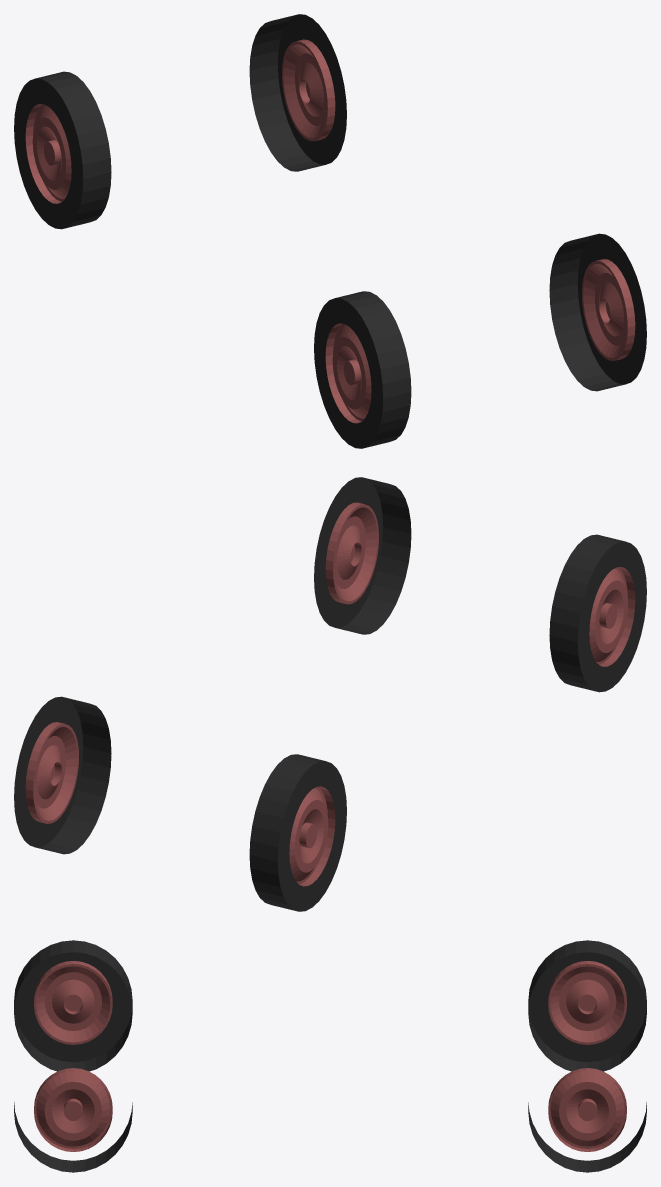
The model's file is bus-wheels-ts7.dae.
3 views of the same model, one above another, from view 1: azimuth 30°, elevation 25°; view 2: azimuth 150°, elevation 25°; view 3: azimuth 270°, elevation 25° (orthographic). The views are drawn at different scales.
Parts seen in each view (by area): view 1: Circle, Circle_004; view 2: Circle, Circle_004; view 3: Circle, Circle_004.
Part boxes in pixels (x1,y1,x2,y2): Circle: (314,233,646,448); Circle_004: (14,14,346,229); Circle: (314,477,646,692); Circle_004: (14,696,346,911); Circle: (14,940,132,1172); Circle_004: (528,940,646,1172).
Bounding box in the file's own units: 1.31 × 3.18 × 0.6748.
